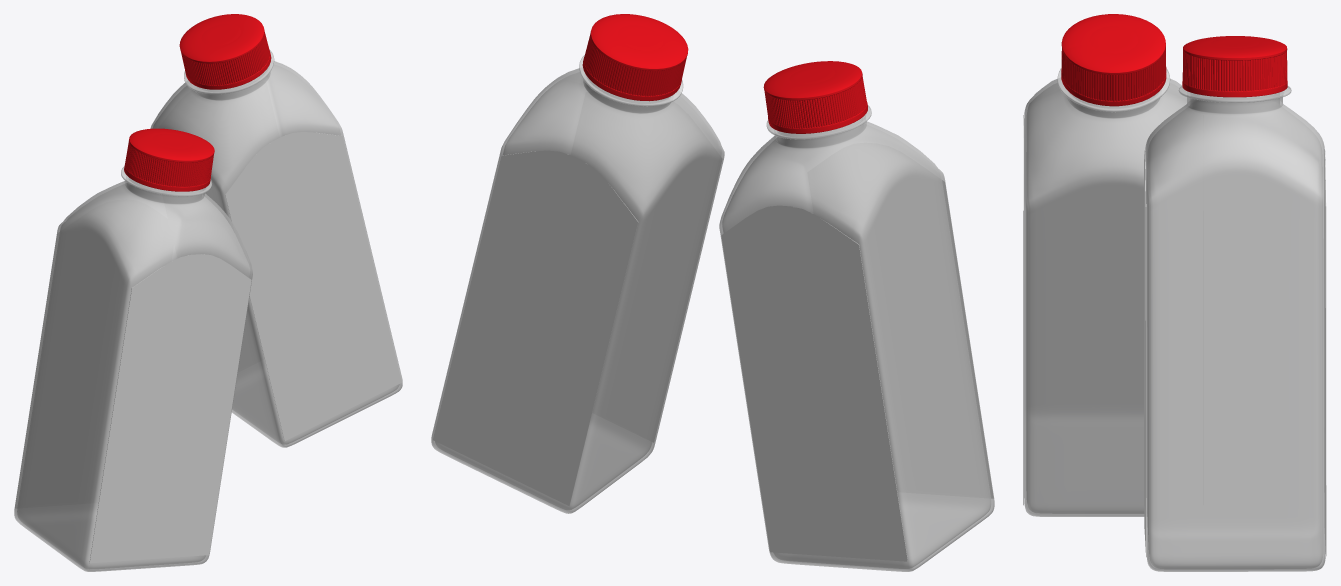
The model's file is Soft Drinks A-3.glb.
3 views of the same model, side by side, from view 1: azimuth 30°, elevation 25°; view 2: azimuth 150°, elevation 25°; view 3: azimuth 270°, elevation 25° (orthographic). The views are drawn at different scales.
Visible parts, largest first — view 1: Bottle_BottlePlastic_0.001, Plane, Plane.002, Bottle_BottlePlastic_0.002, ManiPiece_Bottle2CapArnold_0.001, ManiPiece_Bottle2CapArnold_0, pCube117_Bottle2CapArnold_0, pCube117_Bottle2CapArnold_0.001; view 2: Bottle_BottlePlastic_0.001, Plane, Plane.002, Bottle_BottlePlastic_0.002, ManiPiece_Bottle2CapArnold_0.001, ManiPiece_Bottle2CapArnold_0, pCube117_Bottle2CapArnold_0, pCube117_Bottle2CapArnold_0.001; view 3: Bottle_BottlePlastic_0.002, Bottle_BottlePlastic_0.001, ManiPiece_Bottle2CapArnold_0, pCube117_Bottle2CapArnold_0.001, ManiPiece_Bottle2CapArnold_0.001, pCube117_Bottle2CapArnold_0, Plane.002, Plane.
Boxes of the visible parts, x1=… form: Bottle_BottlePlastic_0.001: x1=14, y1=167, x2=252, y2=571; Plane: x1=15, y1=232, x2=251, y2=563; Plane.002: x1=225, y1=132, x2=401, y2=440; Bottle_BottlePlastic_0.002: x1=150, y1=49, x2=402, y2=447; ManiPiece_Bottle2CapArnold_0.001: x1=179, y1=14, x2=271, y2=89; ManiPiece_Bottle2CapArnold_0: x1=124, y1=128, x2=214, y2=191; pCube117_Bottle2CapArnold_0: x1=125, y1=141, x2=213, y2=186; pCube117_Bottle2CapArnold_0.001: x1=181, y1=32, x2=269, y2=85; Bottle_BottlePlastic_0.001: x1=719, y1=105, x2=994, y2=571; Plane: x1=721, y1=180, x2=993, y2=561; Plane.002: x1=433, y1=150, x2=721, y2=506; Bottle_BottlePlastic_0.002: x1=431, y1=55, x2=724, y2=513; ManiPiece_Bottle2CapArnold_0.001: x1=582, y1=14, x2=688, y2=101; ManiPiece_Bottle2CapArnold_0: x1=763, y1=61, x2=867, y2=133; pCube117_Bottle2CapArnold_0: x1=764, y1=75, x2=866, y2=128; pCube117_Bottle2CapArnold_0.001: x1=584, y1=35, x2=686, y2=96; Bottle_BottlePlastic_0.002: x1=1145, y1=86, x2=1325, y2=571; Bottle_BottlePlastic_0.001: x1=1024, y1=68, x2=1189, y2=516; ManiPiece_Bottle2CapArnold_0: x1=1061, y1=14, x2=1166, y2=106; pCube117_Bottle2CapArnold_0.001: x1=1182, y1=51, x2=1287, y2=91; ManiPiece_Bottle2CapArnold_0.001: x1=1182, y1=36, x2=1287, y2=97; pCube117_Bottle2CapArnold_0: x1=1061, y1=48, x2=1166, y2=101; Plane.002: x1=1144, y1=150, x2=1326, y2=556; Plane: x1=1023, y1=115, x2=1023, y2=505.
Size of the model in its own units: 5.09 by 5.89 by 2.98.
